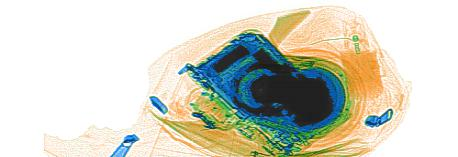plasticBottleWithaNozzle: (338, 13, 384, 103)
